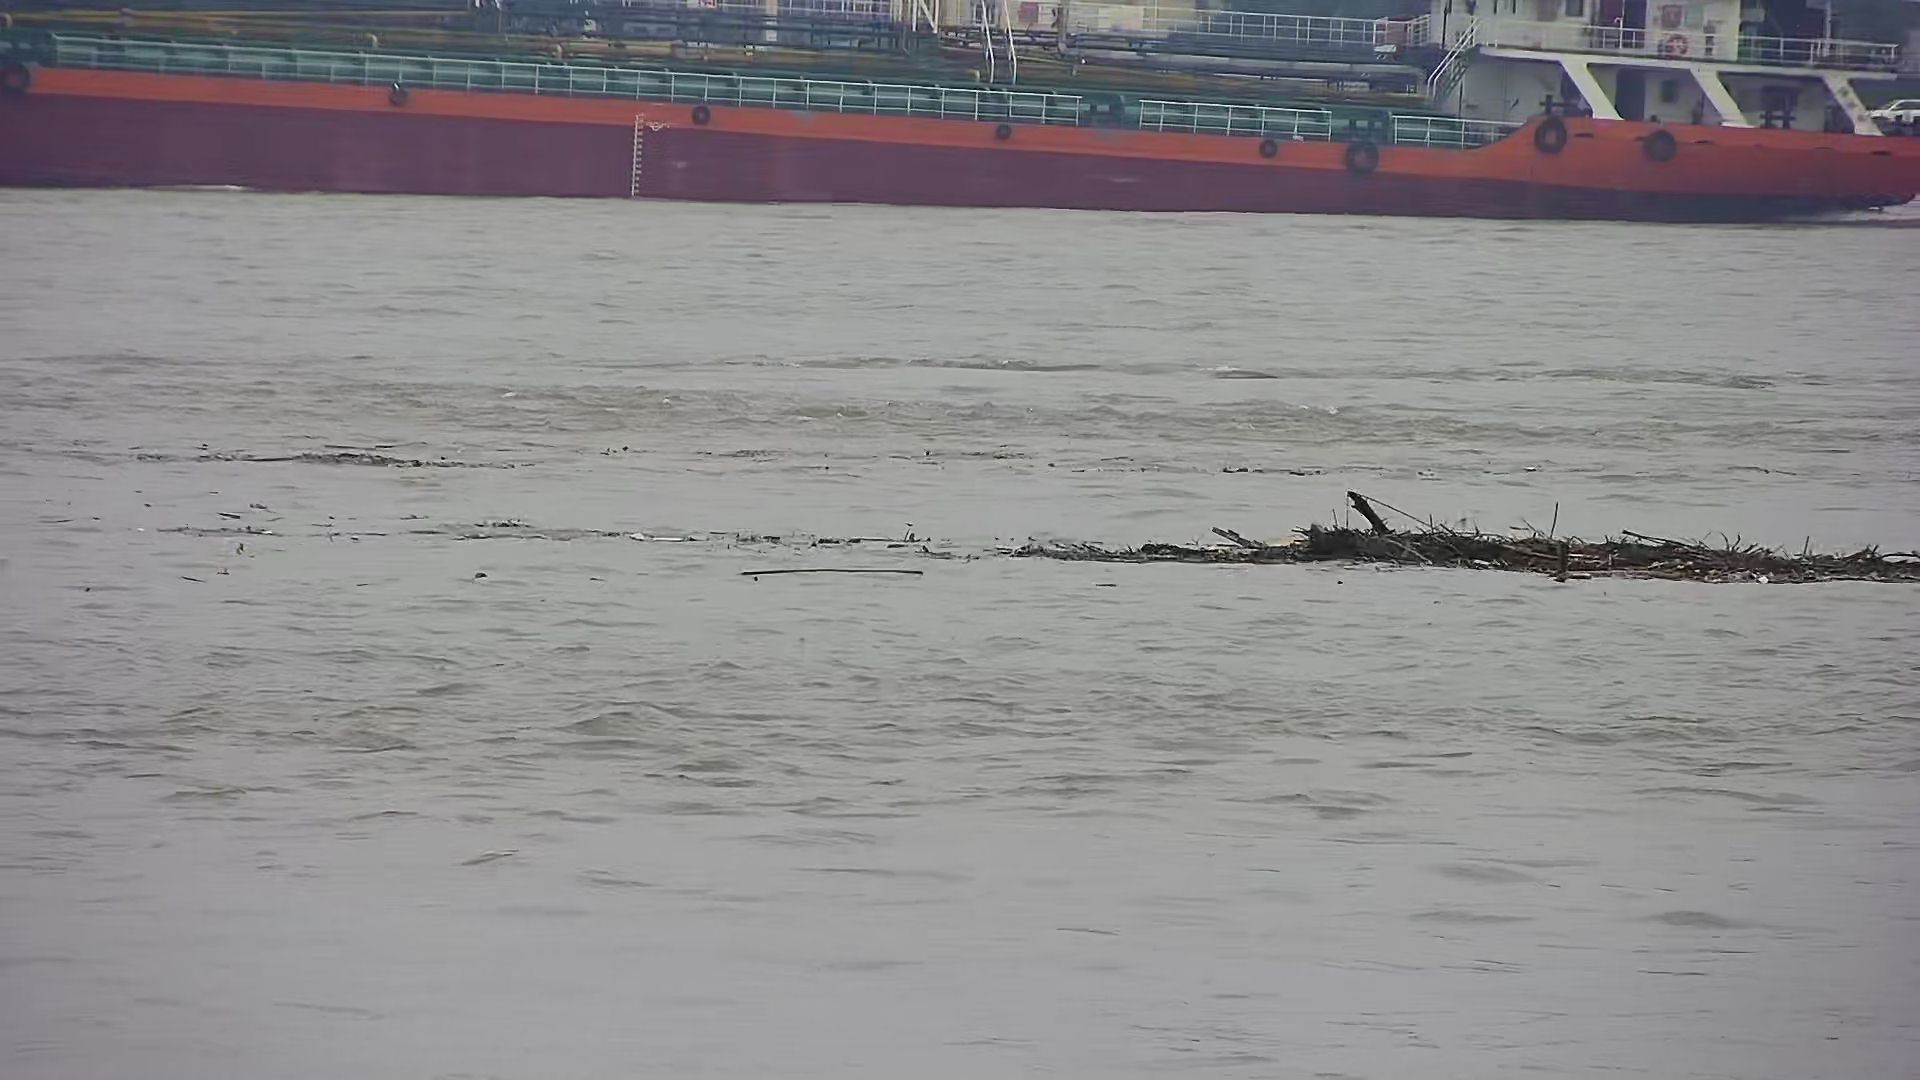grass: (986, 484, 1913, 600)
ship: (11, 17, 1913, 237)
